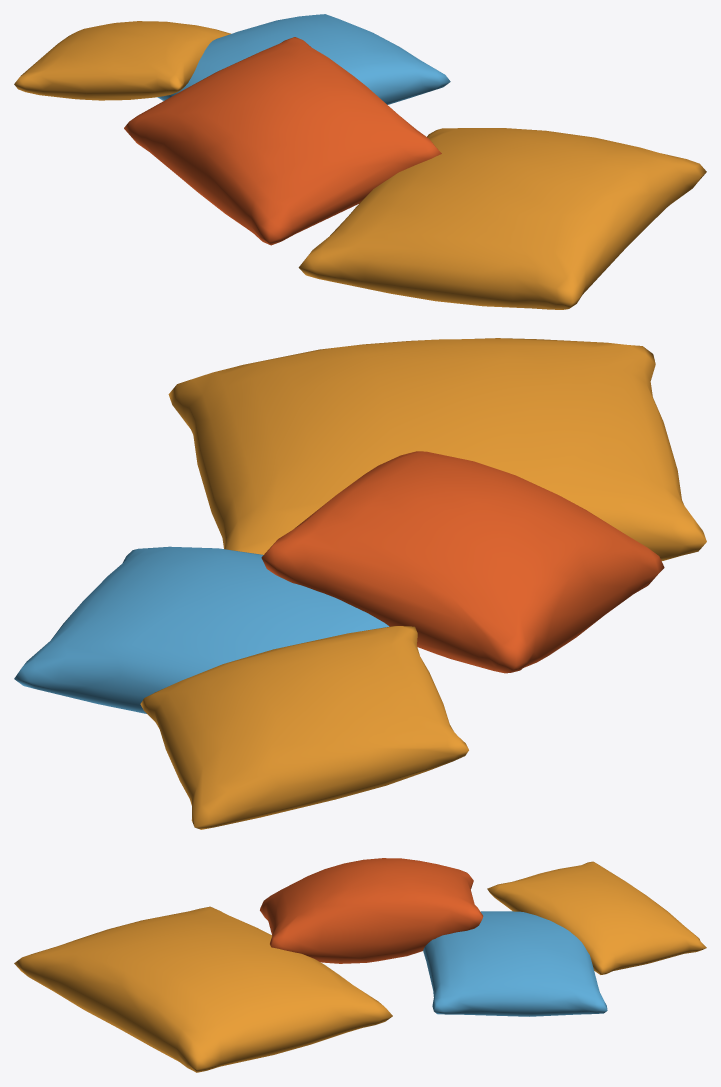
The model's file is cuscini_LOD1.fbx.
3 renders of one model, top to bottom at view 1: azimuth 30°, elevation 25°; view 2: azimuth 150°, elevation 25°; view 3: azimuth 270°, elevation 25°, orthographic. The views are drawn at different scales.
Parts seen in each view (by area): view 1: Cushion; view 2: Cushion; view 3: Cushion.
Part boxes in pixels (x1,y1,x2,y2): Cushion: (14,14,706,309); Cushion: (14,338,706,829); Cushion: (14,858,706,1072).
Bounding box in the file's own units: 405 × 115 × 639.
